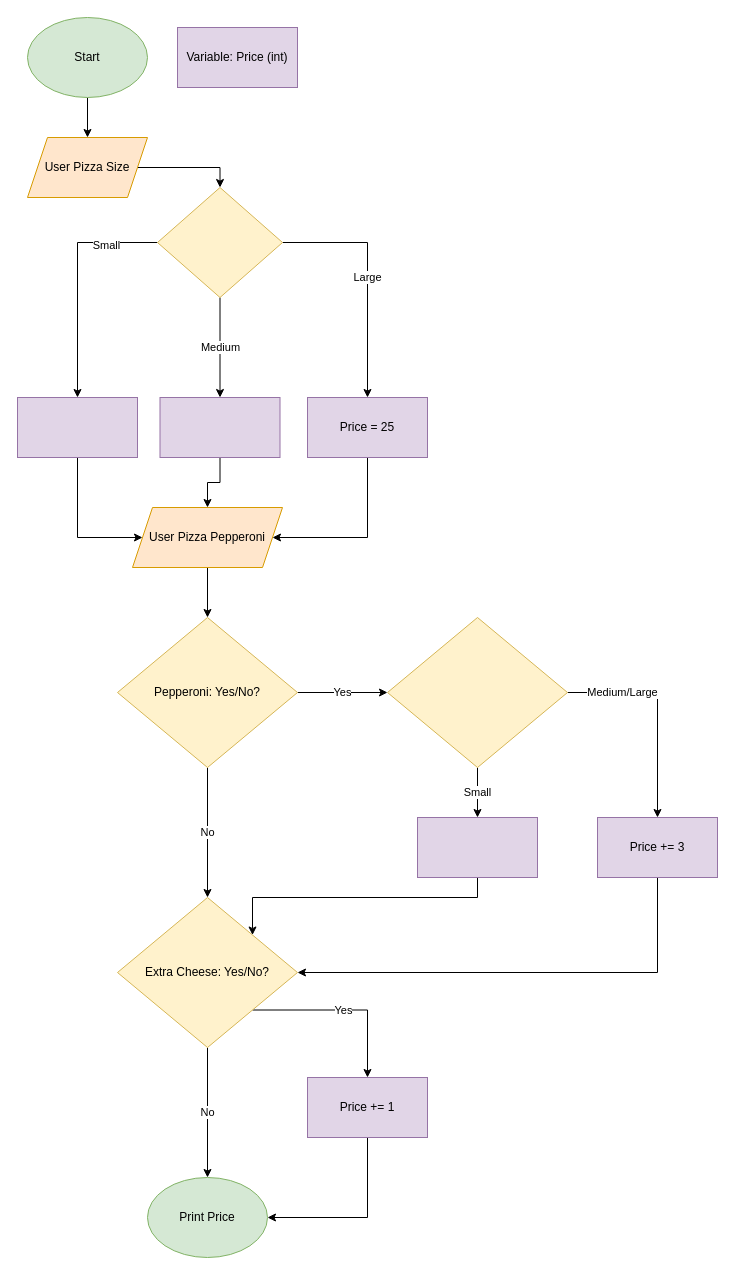
Image size: 735x1275. Some labels were removed from this diagram. Here are the shapes that lost their labels. From the top down, the centre of each, then its label:
point (219, 242): S, M, or L?
point (77, 427): Price = 15
point (219, 427): Price = 20
point (477, 692): Small or Medium/Large Pizza?
point (477, 847): Price += 2
